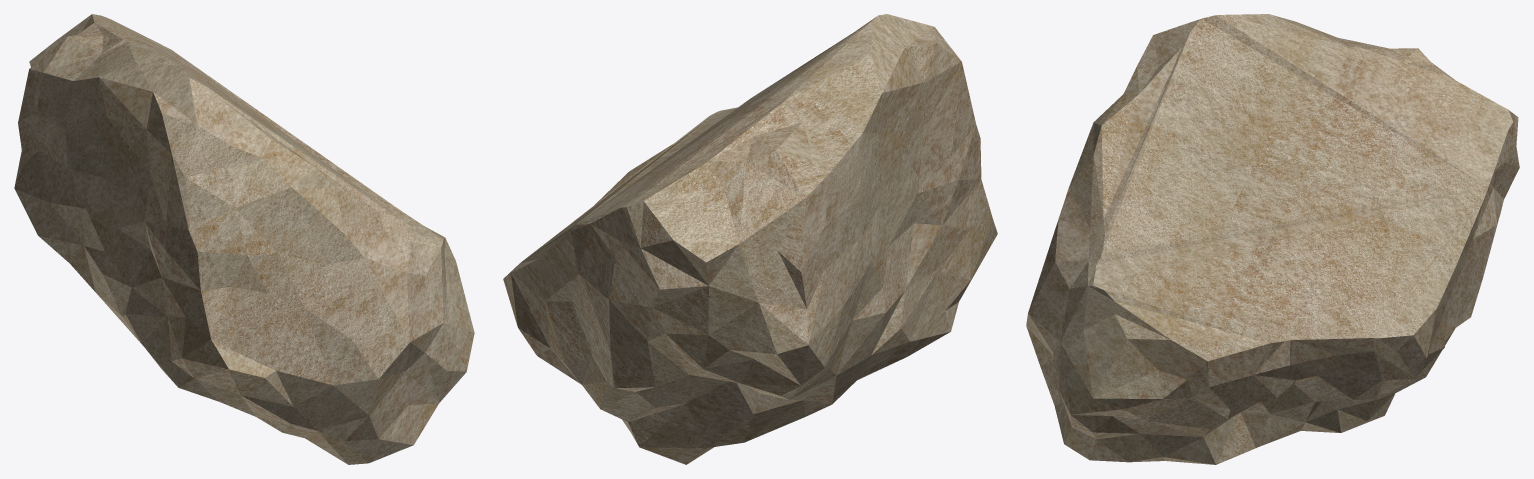
The model's file is piedra2.glb.
3 views of the same model, side by side, from view 1: azimuth 30°, elevation 25°; view 2: azimuth 150°, elevation 25°; view 3: azimuth 270°, elevation 25° (orthographic). The views are drawn at different scales.
Parts seen in each view (by area): view 1: skp2F; view 2: skp2F; view 3: skp2F.
Boxes of the visible parts, left/top/right/bottom form: skp2F: left=14, top=14, right=474, bottom=464; skp2F: left=503, top=14, right=997, bottom=464; skp2F: left=1026, top=14, right=1519, bottom=464.
Size of the model in its own units: 0.408 by 0.4982 by 0.5802.
Materials: 1 (1 with a texture image).
